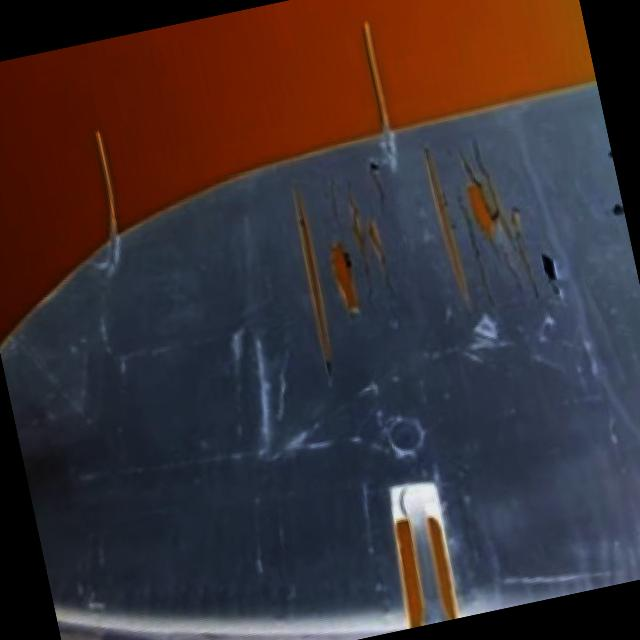crack: (273, 120, 565, 400)
